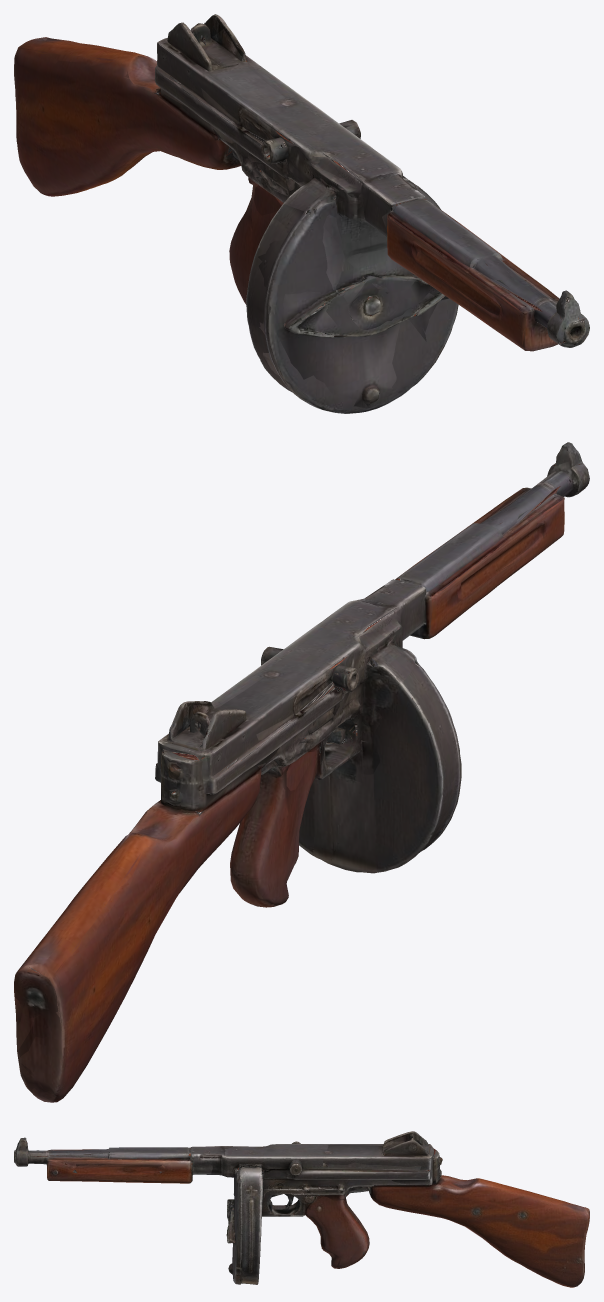
Rendered from tommy_gun.glb.
The picture shows the model from 3 angles, top to bottom: view 1: azimuth 30°, elevation 25°; view 2: azimuth 150°, elevation 25°; view 3: azimuth 270°, elevation 25°; orthographic projection. The views are drawn at different scales.
Parts seen in each view (by area): view 1: model, mesh_lod; view 2: model, mesh_lod; view 3: model, mesh_lod.
Boxes of the visible parts, box(x1,y1,x2,y2) form: model: box(14, 14, 589, 413); mesh_lod: box(15, 16, 589, 411); model: box(14, 442, 589, 1102); mesh_lod: box(14, 443, 589, 1101); model: box(14, 1131, 589, 1287); mesh_lod: box(14, 1132, 589, 1287).
Size of the model in its own units: 0.1791 by 0.248 by 0.86.
1 material, 1 textured.
